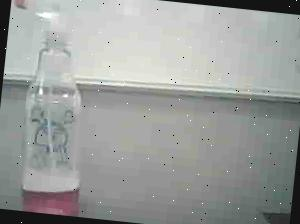hazard: (0, 0, 110, 218)
